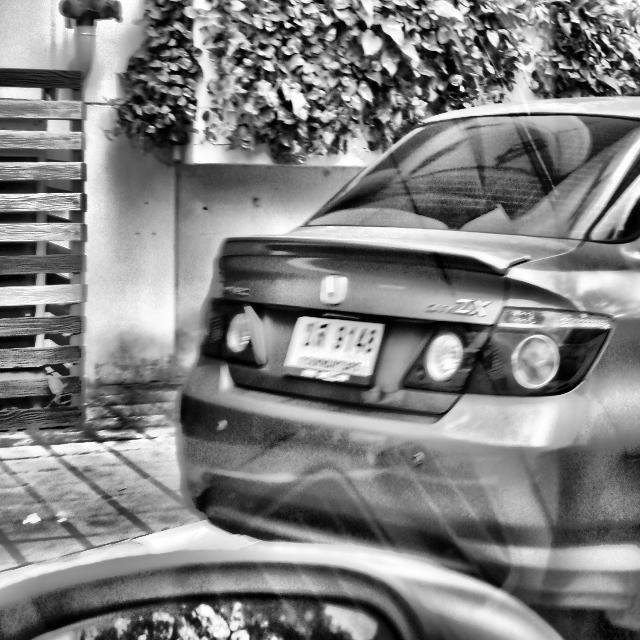license-plate: (286, 309, 384, 382)
